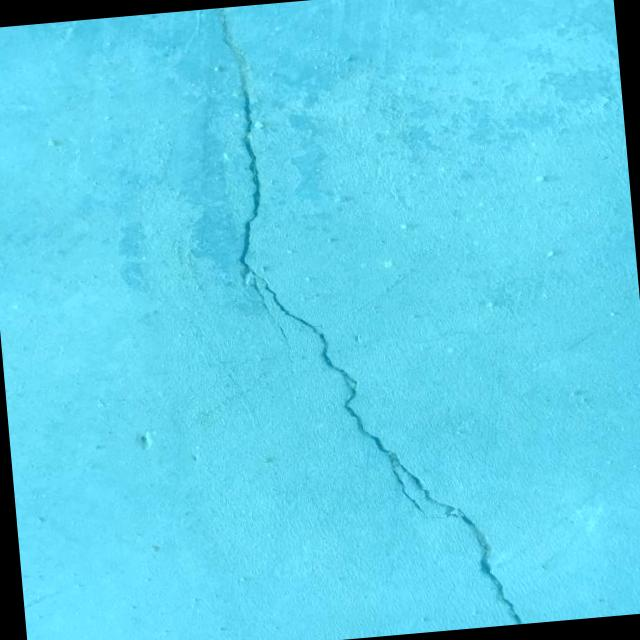crack: (213, 0, 524, 640)
